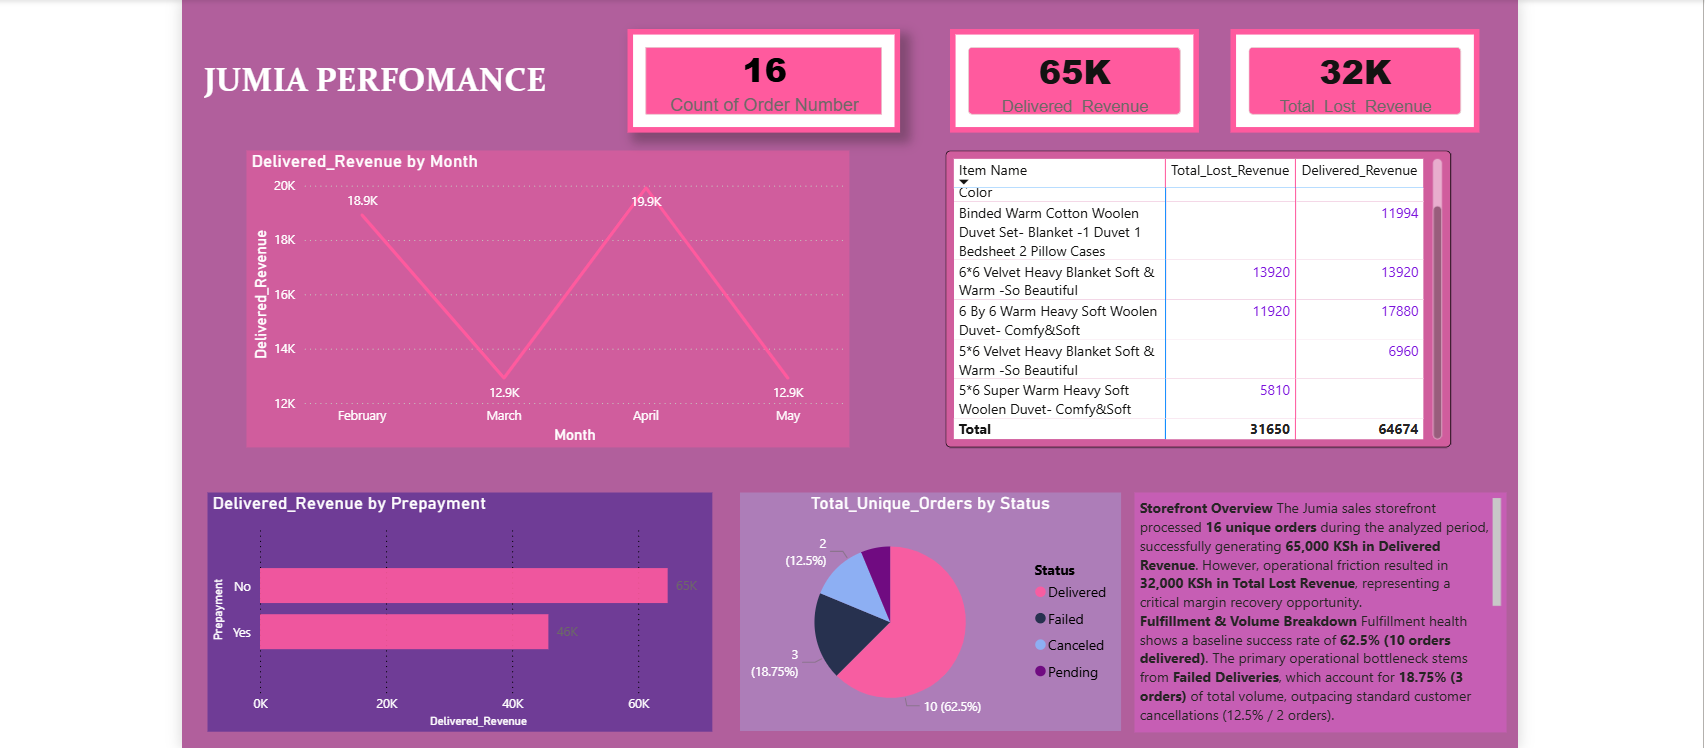

The page's visual inventory and layout, read from the dashboard file:
{"tool":"powerbi","page":{"name":"Page 1","canvas":[1280,720],"ordinal":0},"visuals":[{"type":"cardVisual","fields":{"Data":["Count(Master_Sales.Order Number)"]},"box":[427.1,28.5,261.6,99.6],"z":0},{"type":"pieChart","fields":{"Category":["Master_Sales.Status"],"Y":["Master_Sales.Total_Unique_Orders"]},"box":[535,473.1,365.3,228.7],"z":2000},{"type":"textbox","box":[16,51.6,359.4,49.8],"z":3000},{"type":"cardVisual","fields":{"Data":["Master_Sales.Delivered_Revenue"]},"box":[736.7,28.5,238.4,99.6],"z":5000},{"type":"cardVisual","fields":{"Data":["Master_Sales.Total_Lost_Revenue"]},"box":[1005.4,28.5,238.4,99.6],"z":6000},{"type":"lineChart","fields":{"Category":["Master_Sales.Created At.Variation.Date Hierarchy.Month"],"Y":["Master_Sales.Delivered_Revenue"]},"box":[61.8,145.2,578.1,284.7],"z":6001},{"type":"pivotTable","fields":{"Rows":["Master_Sales.Item Name"],"Values":["Master_Sales.Total_Lost_Revenue","Master_Sales.Delivered_Revenue"]},"box":[732,145.2,484.6,284.7],"z":6002},{"type":"clusteredBarChart","fields":{"Category":["Master_Sales.Prepayment"],"Y":["Master_Sales.Delivered_Revenue"]},"box":[24.9,473.3,484,229.5],"z":6003},{"type":"textbox","box":[913.2,473.1,356.7,230.1],"z":6004}]}

Visuals, with their boxes on the page's 1280x720 design canvas (x1, y1, x2, y2). These are canvas units, not pixel positions in the 1705x748 screenshot, which may show the page scaled, cropped or inside an application window:
cardVisual - Count(Master_Sales.Order Number): l=427, t=28, r=689, b=128
pieChart - Master_Sales.Status x Master_Sales.Total_Unique_Orders: l=535, t=473, r=900, b=702
textbox: l=16, t=52, r=375, b=101
cardVisual - Master_Sales.Delivered_Revenue: l=737, t=28, r=975, b=128
cardVisual - Master_Sales.Total_Lost_Revenue: l=1005, t=28, r=1244, b=128
lineChart - Master_Sales.Created At.Variation.Date Hierarchy.Month x Master_Sales.Delivered_Revenue: l=62, t=145, r=640, b=430
pivotTable - Master_Sales.Item Name x Master_Sales.Total_Lost_Revenue: l=732, t=145, r=1217, b=430
clusteredBarChart - Master_Sales.Prepayment x Master_Sales.Delivered_Revenue: l=25, t=473, r=509, b=703
textbox: l=913, t=473, r=1270, b=703
